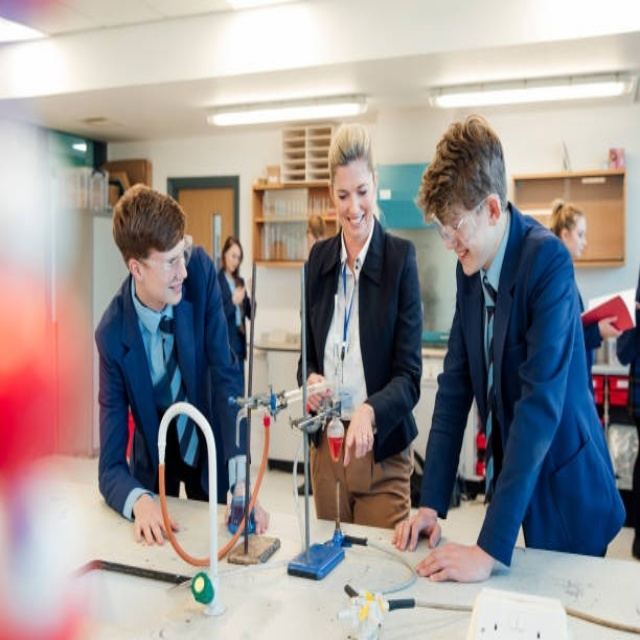Gafas: (433, 196, 491, 247), (139, 242, 191, 272)
Sin_gafas: (336, 174, 372, 202)
Sin_guantes: (419, 538, 482, 584), (389, 510, 448, 552), (129, 493, 178, 543), (338, 408, 378, 469), (299, 365, 330, 409), (600, 306, 625, 345)
Sin_mascara: (453, 245, 475, 275), (342, 210, 365, 237), (163, 278, 186, 304)
